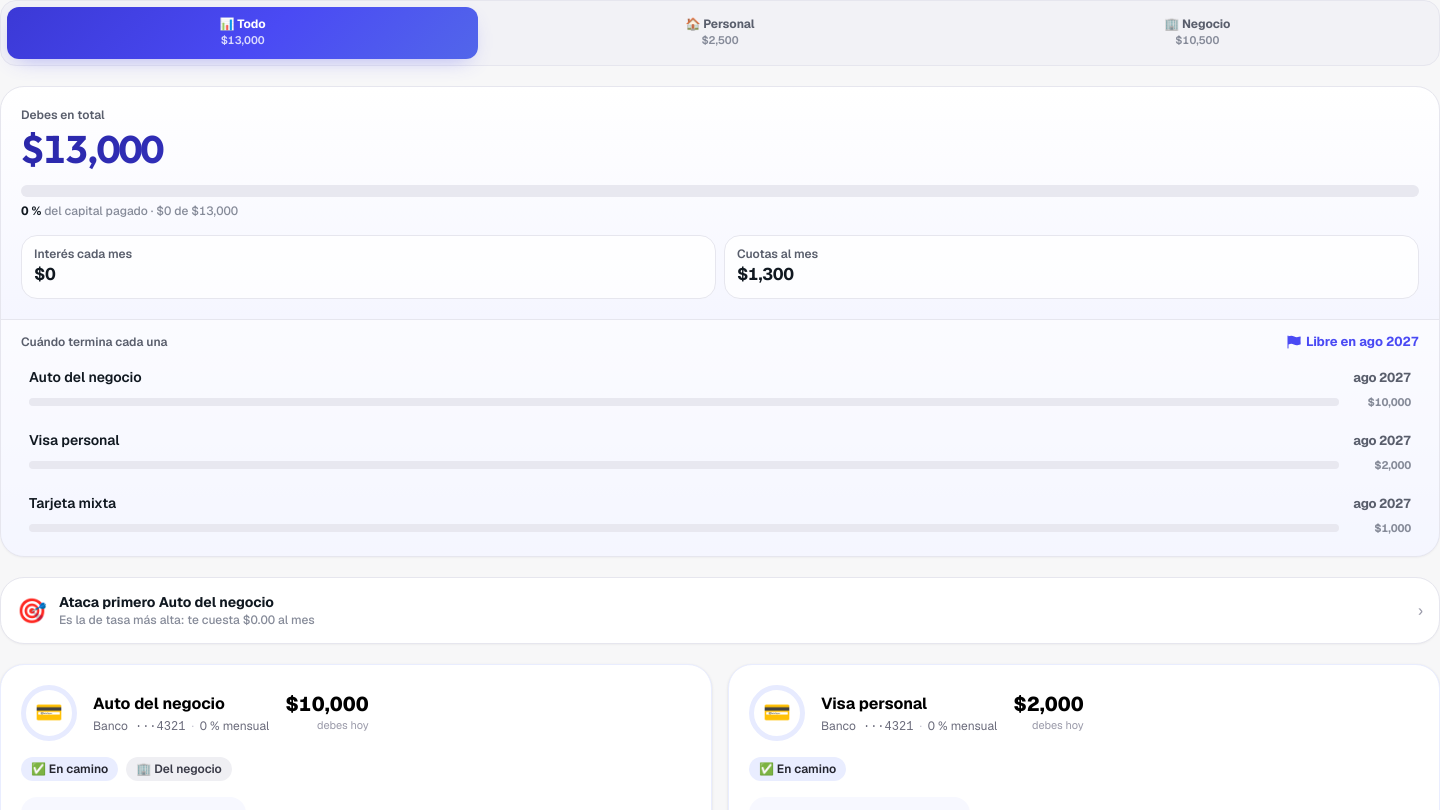
Test: DebtsView — cuándo termina cada una › tocar una fila abre el detalle de esa deuda
Step 1. Click the button "Visa personal ago 2027 $2,000" → {"x": 74, "y": 440}, box [21,422,1419,481]
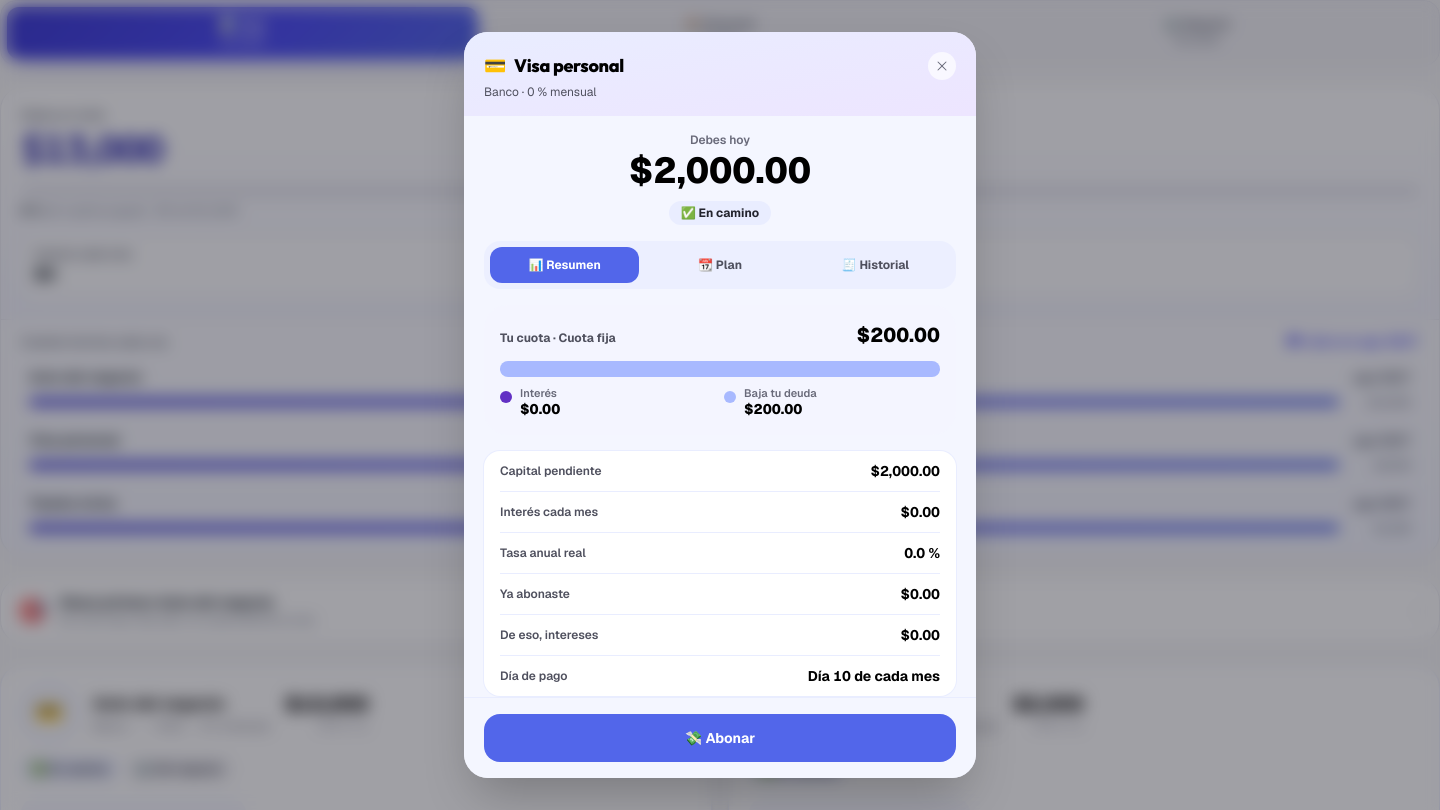
Check: the heading "💳 Visa personal" is shown, box [484,52,624,80]
